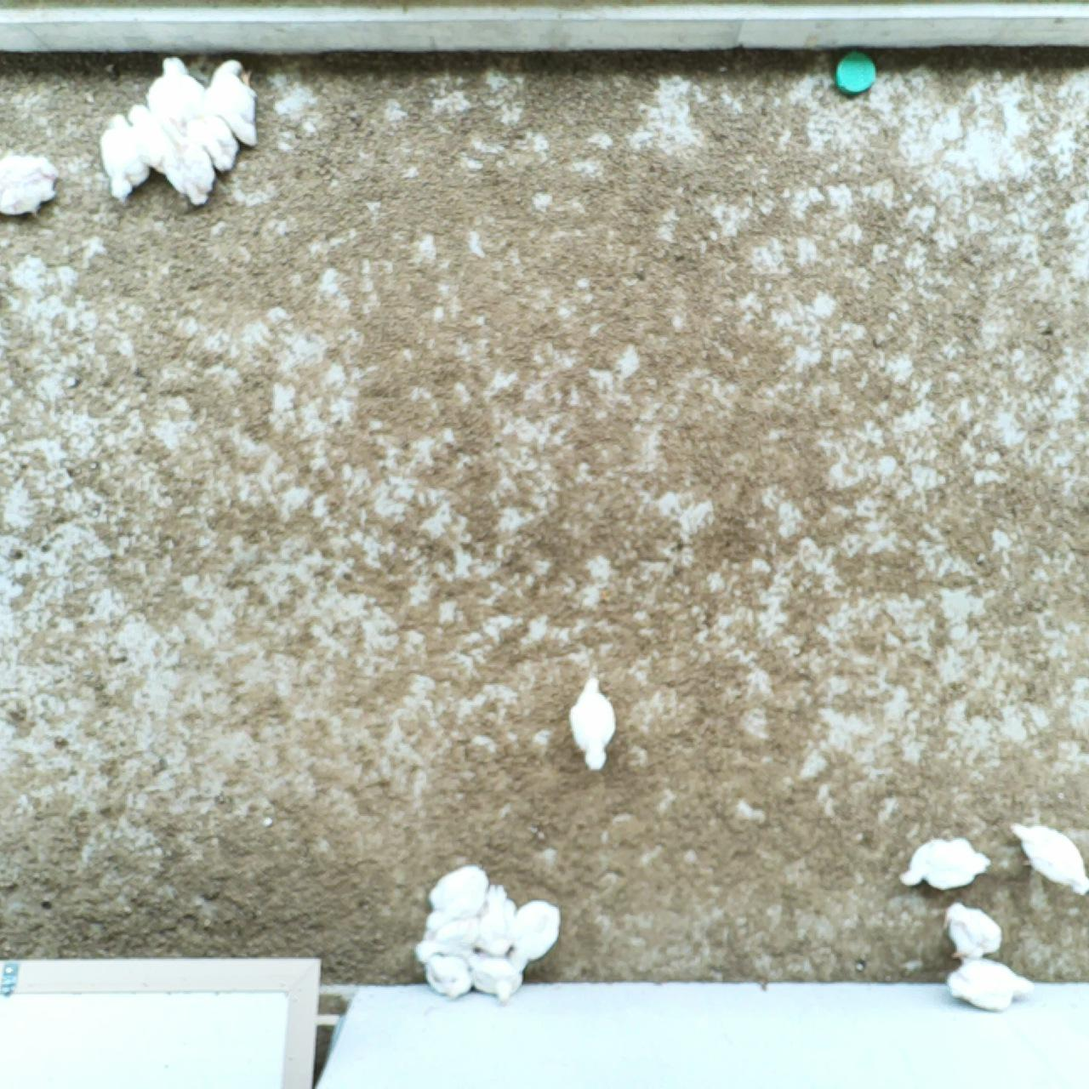chicken: (1005, 817, 1089, 901), (200, 55, 267, 151), (891, 834, 996, 891), (419, 861, 492, 942), (143, 54, 207, 141), (566, 671, 620, 774), (944, 958, 1036, 1015), (96, 113, 153, 202), (0, 148, 64, 219), (510, 895, 567, 973), (938, 898, 1004, 963), (161, 134, 218, 207), (184, 108, 243, 176), (415, 912, 484, 968), (467, 948, 527, 1008), (471, 881, 517, 958), (421, 949, 478, 1001), (127, 103, 167, 173)
